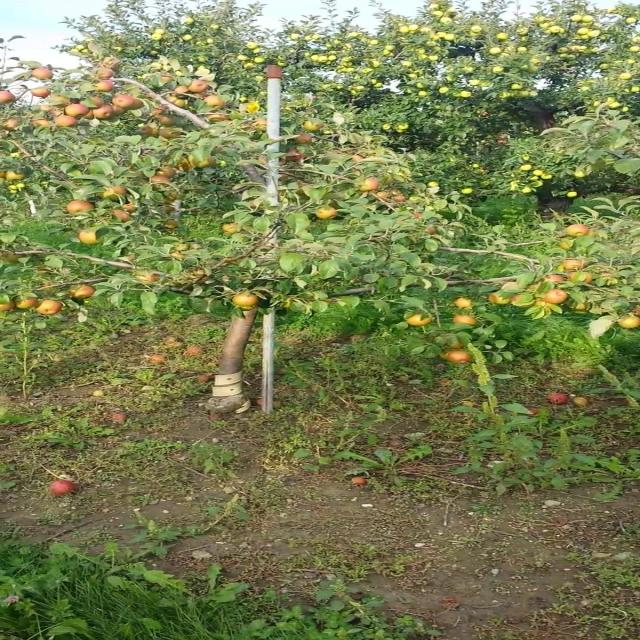apple: (35, 300, 64, 316), (547, 288, 569, 304), (447, 352, 475, 364), (134, 272, 162, 284), (568, 272, 596, 284), (191, 156, 219, 168), (561, 260, 587, 272), (113, 96, 137, 109), (120, 96, 142, 110), (92, 108, 117, 120), (148, 104, 172, 116), (234, 296, 260, 307), (70, 288, 98, 298), (77, 232, 100, 244), (205, 96, 228, 108), (56, 116, 78, 128), (412, 316, 434, 328), (205, 112, 229, 123), (148, 176, 171, 187), (319, 208, 340, 220), (284, 152, 306, 163), (106, 188, 128, 199), (383, 192, 405, 203), (618, 316, 638, 328), (35, 68, 55, 80), (568, 224, 588, 236), (362, 180, 382, 192), (163, 128, 183, 140), (305, 120, 325, 132), (170, 96, 190, 108), (447, 340, 468, 351), (191, 80, 210, 92), (70, 104, 89, 116), (191, 268, 208, 281), (454, 316, 476, 326), (156, 116, 178, 126), (113, 212, 133, 223), (490, 292, 508, 304), (177, 160, 194, 172), (70, 204, 92, 213), (6, 172, 28, 181), (170, 88, 192, 97), (13, 300, 37, 308), (6, 120, 21, 132), (99, 80, 114, 92), (99, 68, 114, 80), (106, 188, 128, 196), (170, 88, 192, 96), (99, 60, 121, 68), (120, 204, 139, 213), (454, 300, 475, 308), (227, 224, 242, 235), (92, 96, 107, 107), (255, 120, 270, 131), (547, 276, 567, 284), (276, 172, 292, 182), (163, 168, 180, 177), (35, 88, 50, 98), (99, 192, 117, 200), (79, 108, 92, 119), (35, 120, 52, 128), (390, 196, 407, 204), (141, 128, 158, 136), (298, 136, 313, 145), (376, 192, 391, 201), (511, 296, 526, 305), (42, 104, 55, 114), (164, 220, 178, 229), (575, 304, 590, 312), (412, 212, 427, 220), (426, 228, 441, 236), (248, 200, 263, 208), (56, 96, 71, 104), (511, 296, 524, 305), (561, 240, 574, 249), (6, 92, 16, 103), (163, 196, 178, 203), (355, 156, 368, 163), (163, 76, 176, 83), (440, 352, 450, 360), (6, 304, 14, 310)
